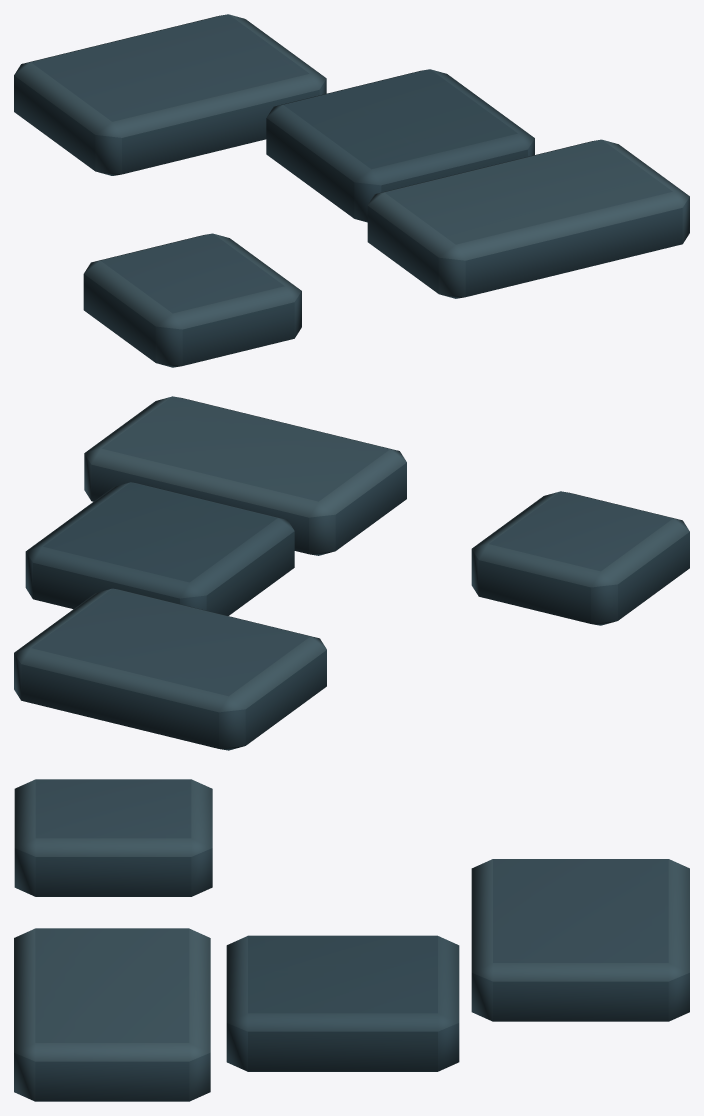
The model's file is stone_path_7.fbx.
3 views of the same model, one above another, from view 1: azimuth 30°, elevation 25°; view 2: azimuth 150°, elevation 25°; view 3: azimuth 270°, elevation 25° (orthographic). The views are drawn at different scales.
Parts seen in each view (by area): view 1: stone_path_7; view 2: stone_path_7; view 3: stone_path_7.
Part boxes in pixels (x1=…): stone_path_7: x1=14, y1=14, x2=689, y2=367; stone_path_7: x1=14, y1=396, x2=689, y2=750; stone_path_7: x1=14, y1=779, x2=689, y2=1101.
Size of the model in its own units: 188 by 18.28 by 191.
